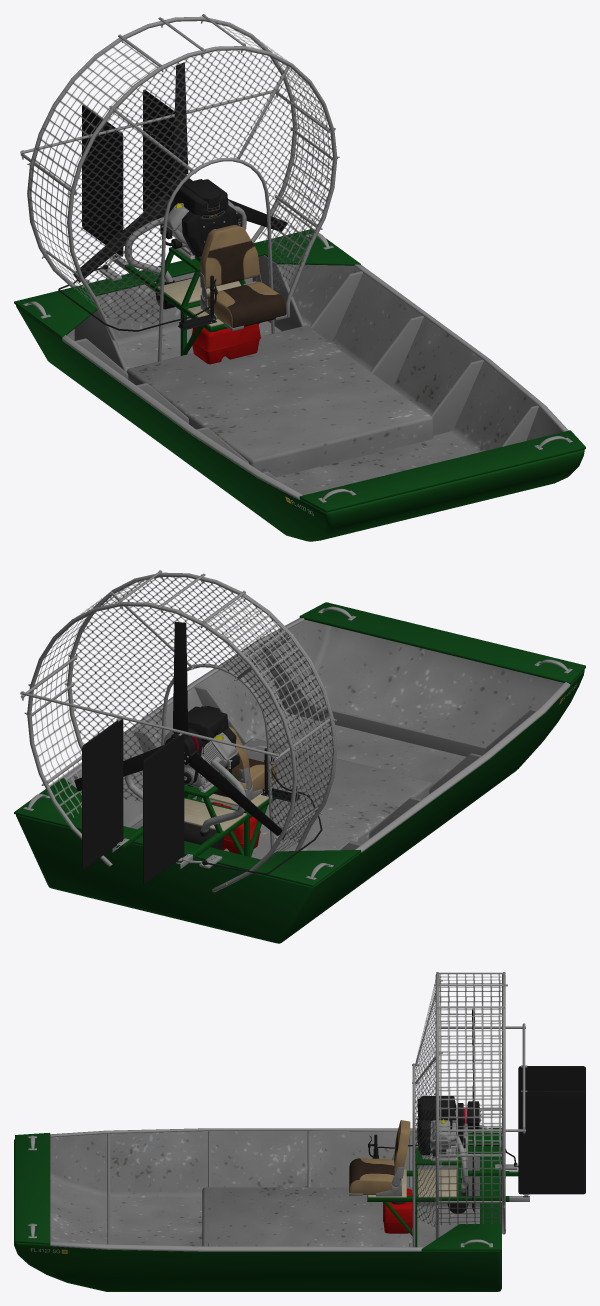
The model's file is airboat.glb.
The picture shows the model from 3 angles, top to bottom: view 1: azimuth 30°, elevation 25°; view 2: azimuth 150°, elevation 25°; view 3: azimuth 270°, elevation 25°; orthographic projection. The views are drawn at different scales.
Parts seen in each view (by area): view 1: hull, rudderR, airprop, rudderL; view 2: hull, rudderR, rudderL, airprop; view 3: hull, rudderL, rudderR, airprop.
Part boxes in pixels (bbox=[...]): hull: bbox=[14, 14, 585, 541]; rudderR: bbox=[82, 105, 123, 256]; airprop: bbox=[73, 62, 287, 282]; rudderL: bbox=[143, 89, 174, 226]; hull: bbox=[14, 570, 585, 943]; rudderR: bbox=[143, 734, 184, 884]; rudderL: bbox=[82, 719, 123, 869]; airprop: bbox=[74, 621, 286, 839]; hull: bbox=[14, 972, 529, 1291]; rudderL: bbox=[518, 1091, 585, 1194]; rudderR: bbox=[518, 1066, 585, 1092]; airprop: bbox=[467, 1008, 481, 1211].
Size of the model in its own units: 2.15 by 2.16 by 4.27.
3 materials, 3 textured.
